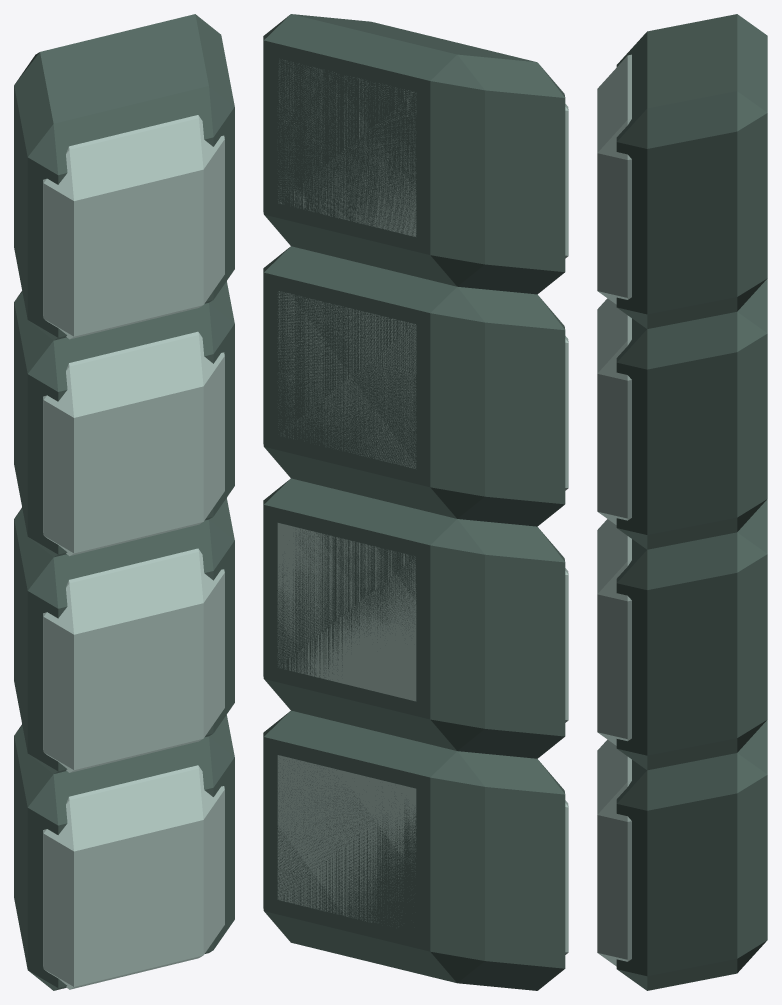
File: Terrain_Block1x4.gltf
3 views of the same model, side by side, from view 1: azimuth 30°, elevation 25°; view 2: azimuth 150°, elevation 25°; view 3: azimuth 270°, elevation 25° (orthographic). The views are drawn at different scales.
Visible parts, largest first — view 1: Terrain_Block1x4_baked; view 2: Terrain_Block1x4_baked; view 3: Terrain_Block1x4_baked.
Part boxes in pixels (x1,y1,x2,y2): Terrain_Block1x4_baked: [14, 14, 234, 990]; Terrain_Block1x4_baked: [263, 14, 568, 990]; Terrain_Block1x4_baked: [597, 14, 767, 990].
Bounding box in the file's own units: 1.15 × 4.15 × 0.7.
